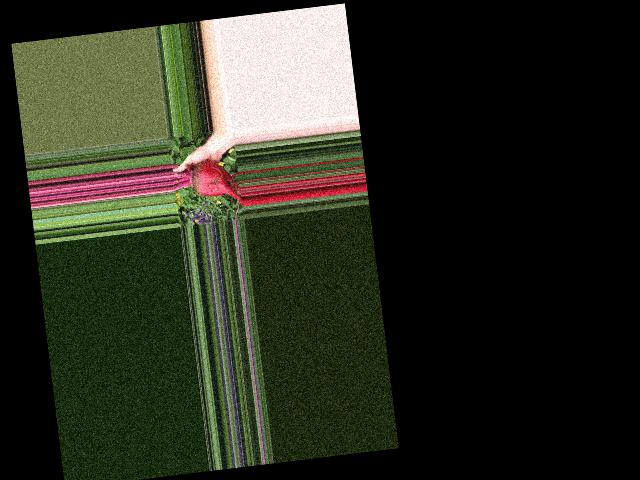beet: (171, 156, 243, 213)
